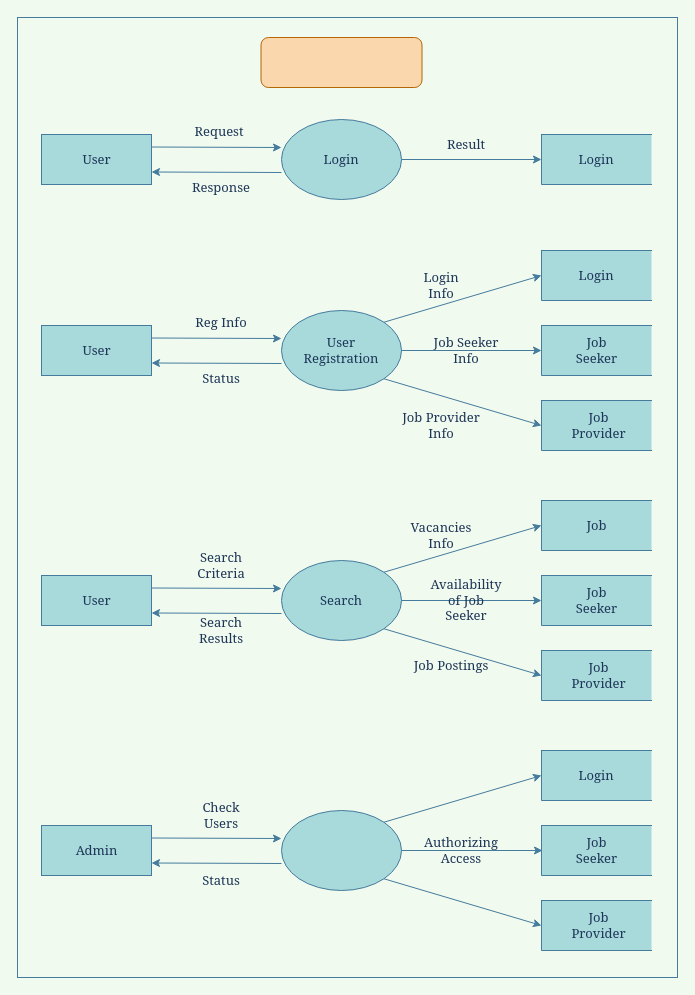
The diagram is 695 pixels wide and 995 high, and some of its shapes have lost their labels. The shapes that lost their labels are listed below. From the top down, each one's centre as x and y in pixels, then its label:
At point 341,62: "1-LEVEL DFD".
At point 341,850: "Manage Users".
